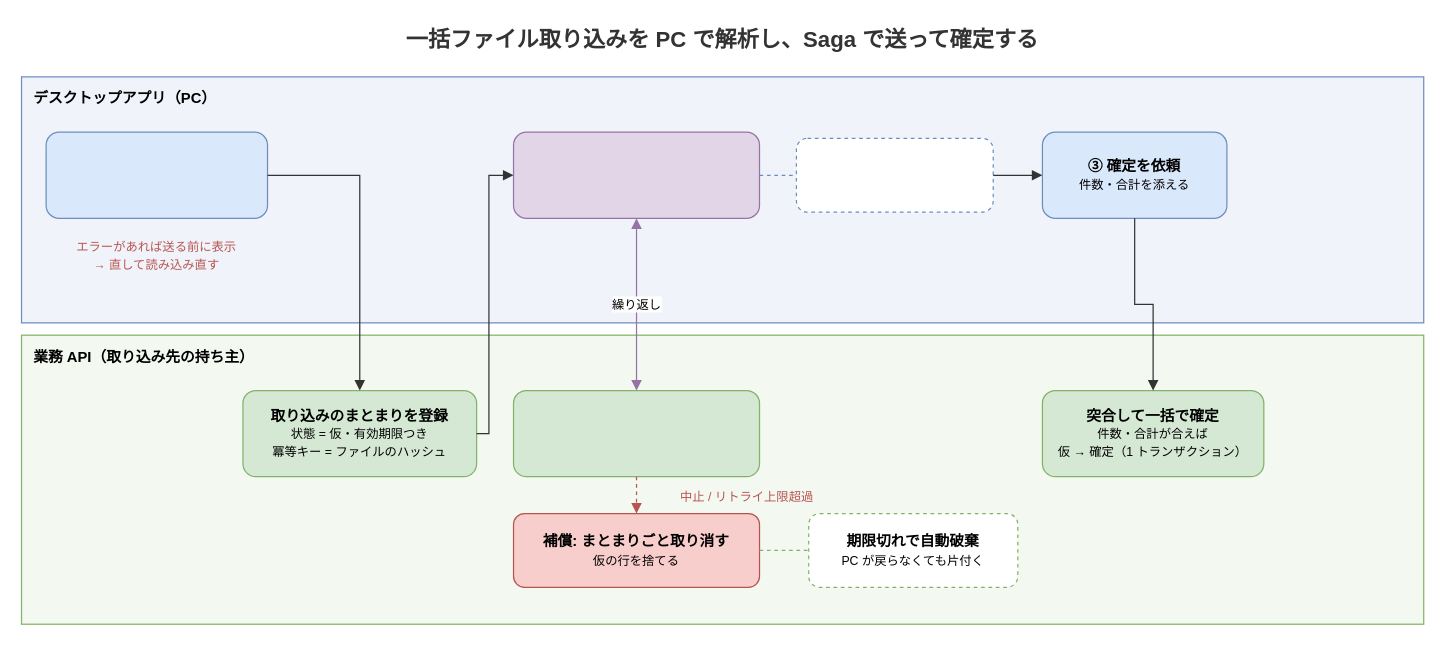
Some shapes in this 1445 by 646 pixel diagram are drawn without their labels. Here are the shapes that lost their labels. From the top down, the centre of each, then its label:
(156,174): ① 解析と検証 PC の CPU で全行を読む 形式・必須項目・コードの存在
(636,174): ② チャンクに分けて送る 例: 500 行ずつ・冪等キー付き 送り終えたら Saga ログに記録
(894,174): 進捗バー 送信済みチャンク / 全体 落ちても続きから再開
(636,433): チャンクを仮で保存 チャンクごとにローカルトランザクション 同じキーの再送は前回の結果を返す
